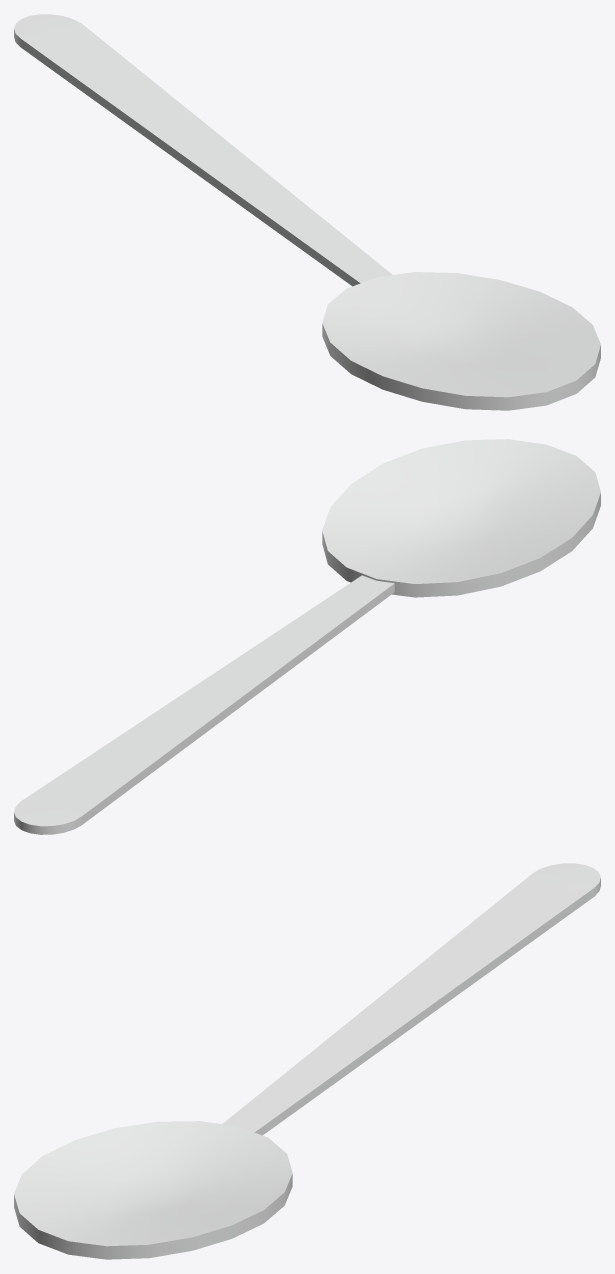
Rendered from Cuchara.fbx.
3 views of the same model, one above another, from view 1: azimuth 30°, elevation 25°; view 2: azimuth 150°, elevation 25°; view 3: azimuth 330°, elevation 25° (orthographic).
Visible parts, largest first — view 1: Cuchara; view 2: Cuchara; view 3: Cuchara.
Boxes of the visible parts, x1,y1,x2,y2 form: Cuchara: (14, 14, 600, 410); Cuchara: (14, 439, 600, 834); Cuchara: (14, 863, 600, 1259).
Size of the model in its own units: 14.08 by 1.92 by 57.03.
Materials: 1 (1 with a texture image).
